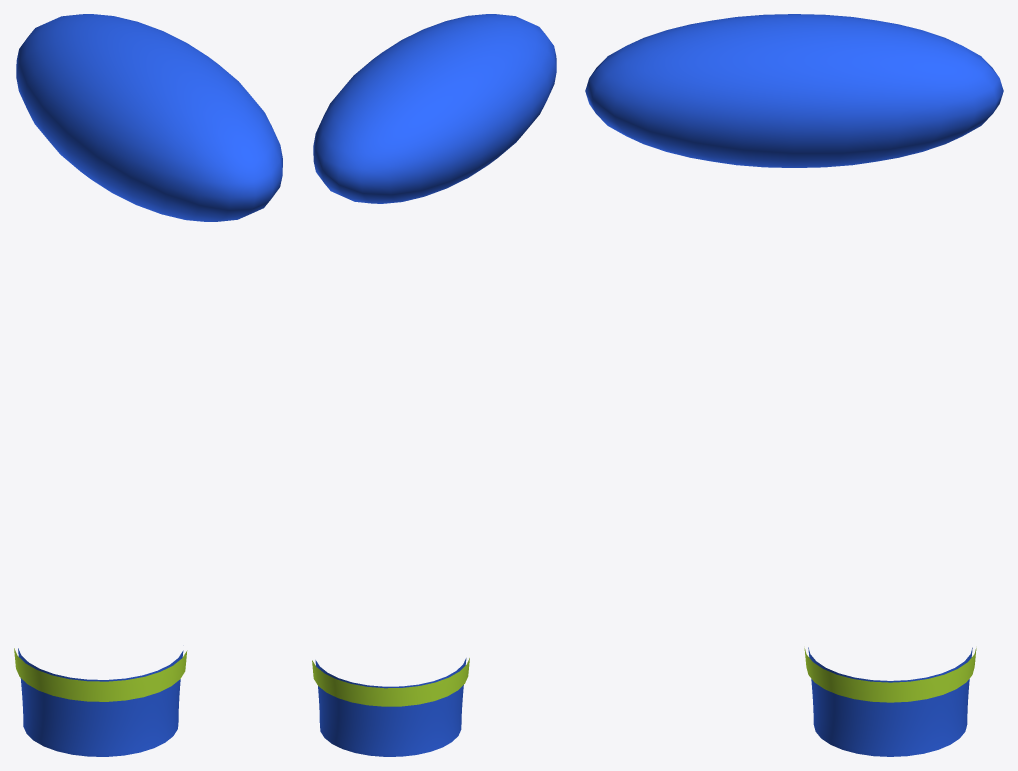
File: socks_ankle_male.glb
3 renders of one model, left to right at view 1: azimuth 30°, elevation 25°; view 2: azimuth 150°, elevation 25°; view 3: azimuth 270°, elevation 25°, orthographic. The views are drawn at different scales.
Visible parts, largest first — view 1: sock_foot, sock, sock_band; view 2: sock_foot, sock, sock_band; view 3: sock_foot, sock, sock_band.
Boxes of the visible parts, x1,y1,x2,y2 form: sock_foot: [16, 14, 282, 221]; sock: [18, 648, 183, 756]; sock_band: [14, 648, 187, 701]; sock_foot: [313, 14, 556, 203]; sock: [315, 658, 466, 756]; sock_band: [312, 658, 469, 706]; sock_foot: [585, 14, 1003, 167]; sock: [808, 647, 972, 756]; sock_band: [804, 648, 976, 702].
Bounding box in the file's own units: 0.098 × 0.402 × 0.218.
